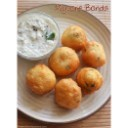bonda: (26, 63, 57, 96), (48, 50, 78, 77), (56, 77, 80, 109), (77, 65, 104, 92), (81, 42, 106, 65), (61, 25, 85, 48)
